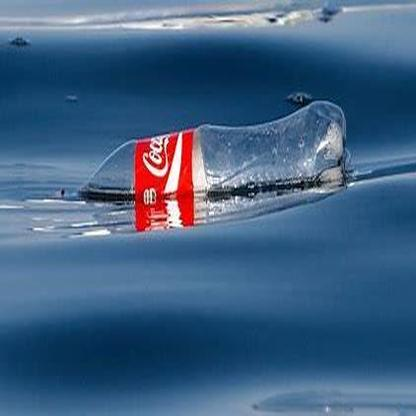plastic bottle: (56, 101, 355, 202)
